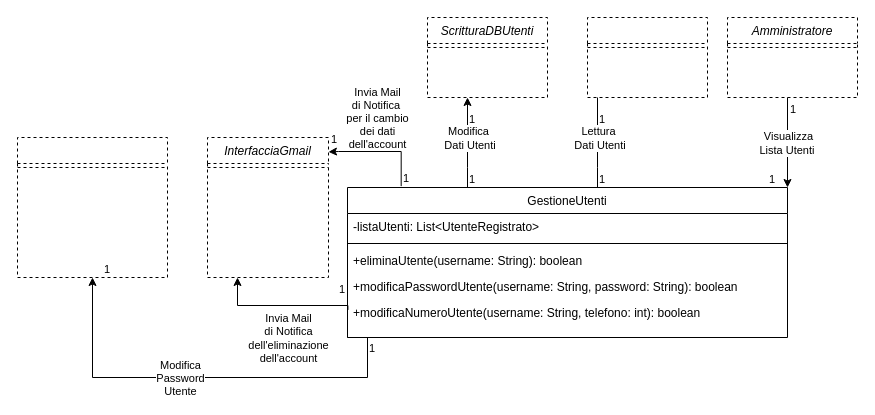
This 875x415 diagram has some shape labels left out. Here are the shapes that lost their labels. From the top down, the centre of each, then its label:
[647,57]: LetturaDBUtenti
[92,207]: GestoreAutenticazione
